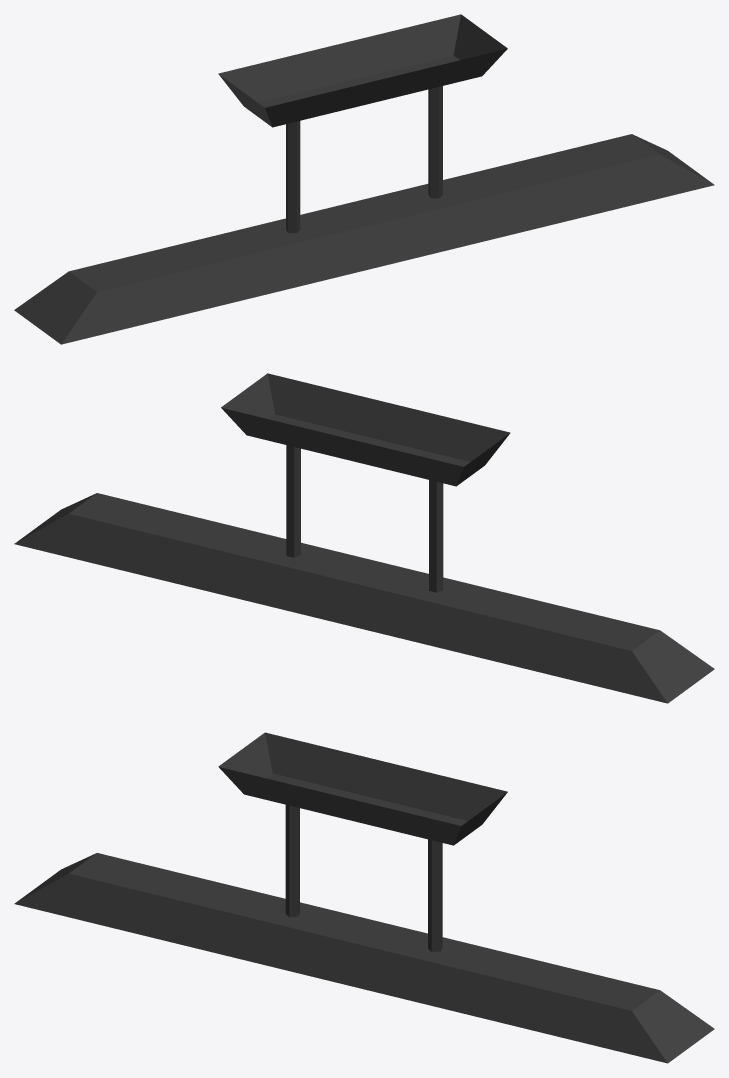
File: SCH0110021.fbx
The picture shows the model from 3 angles, top to bottom: view 1: azimuth 30°, elevation 25°; view 2: azimuth 150°, elevation 25°; view 3: azimuth 330°, elevation 25°; orthographic projection.
Parts seen in each view (by area): view 1: smSCH0110021; view 2: smSCH0110021; view 3: smSCH0110021.
Boxes of the visible parts, box(x1,y1,x2,y2) form: smSCH0110021: box(14, 14, 714, 344); smSCH0110021: box(14, 373, 714, 703); smSCH0110021: box(14, 732, 714, 1063).
Size of the model in its own units: 226 by 62 by 28.29.
1 material, 1 textured.
